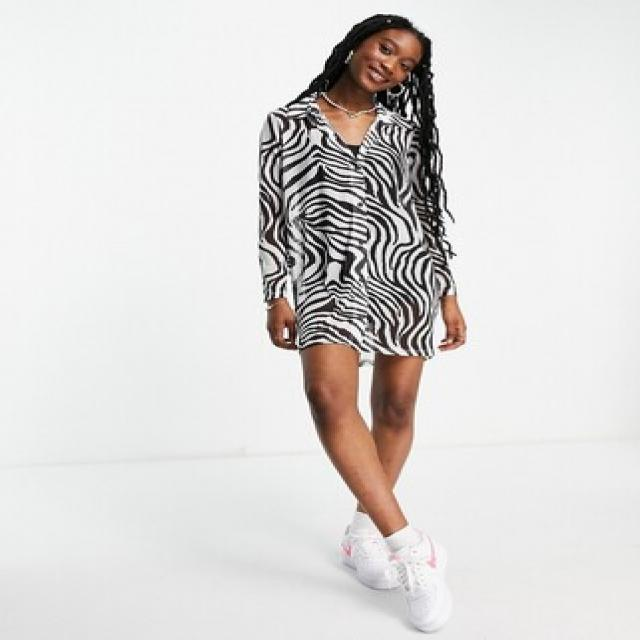clothes: (261, 102, 460, 365)
